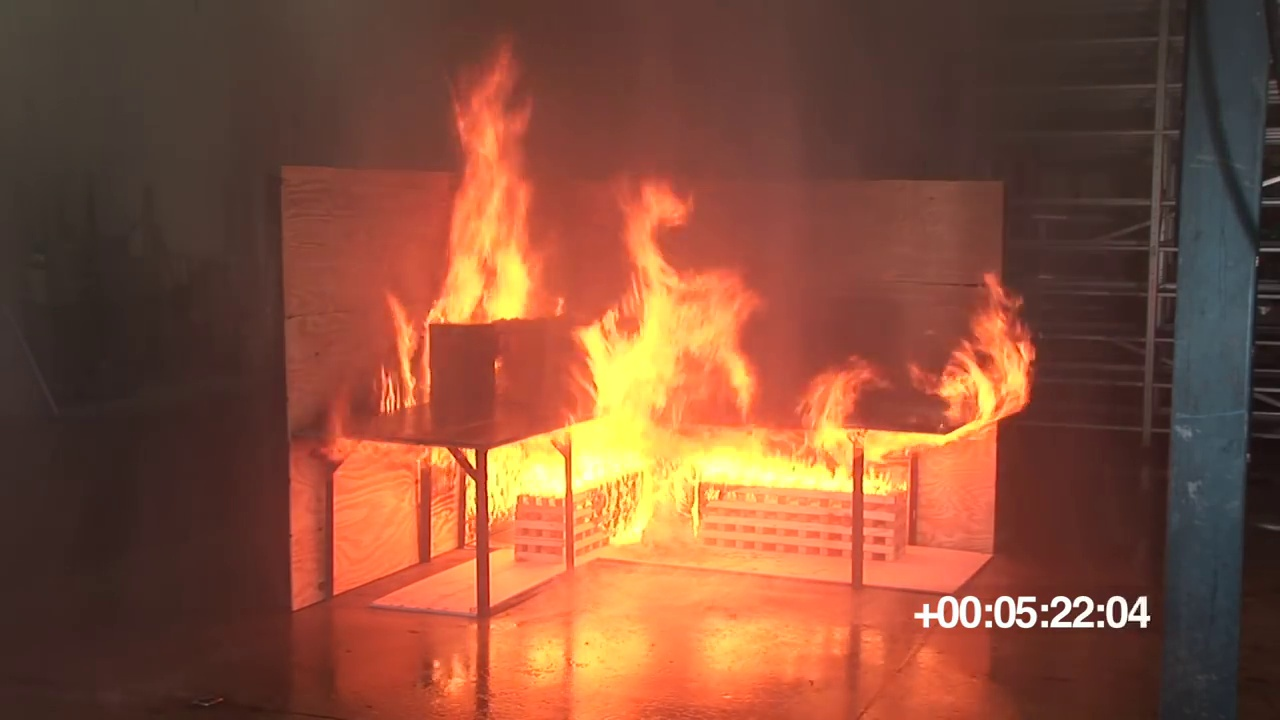fire: (573, 186, 761, 423), (428, 58, 538, 326), (485, 433, 896, 493), (937, 271, 1030, 421), (807, 357, 867, 467)
